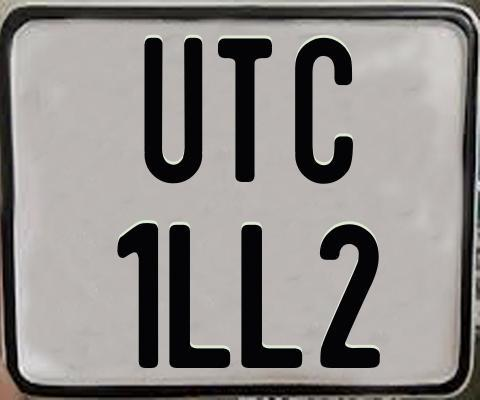1: (114, 222, 156, 367)
2: (318, 221, 380, 371)
C: (295, 38, 353, 187)
L: (167, 223, 231, 368), (239, 225, 302, 368)
T: (215, 35, 270, 183)
U: (142, 38, 205, 190)
